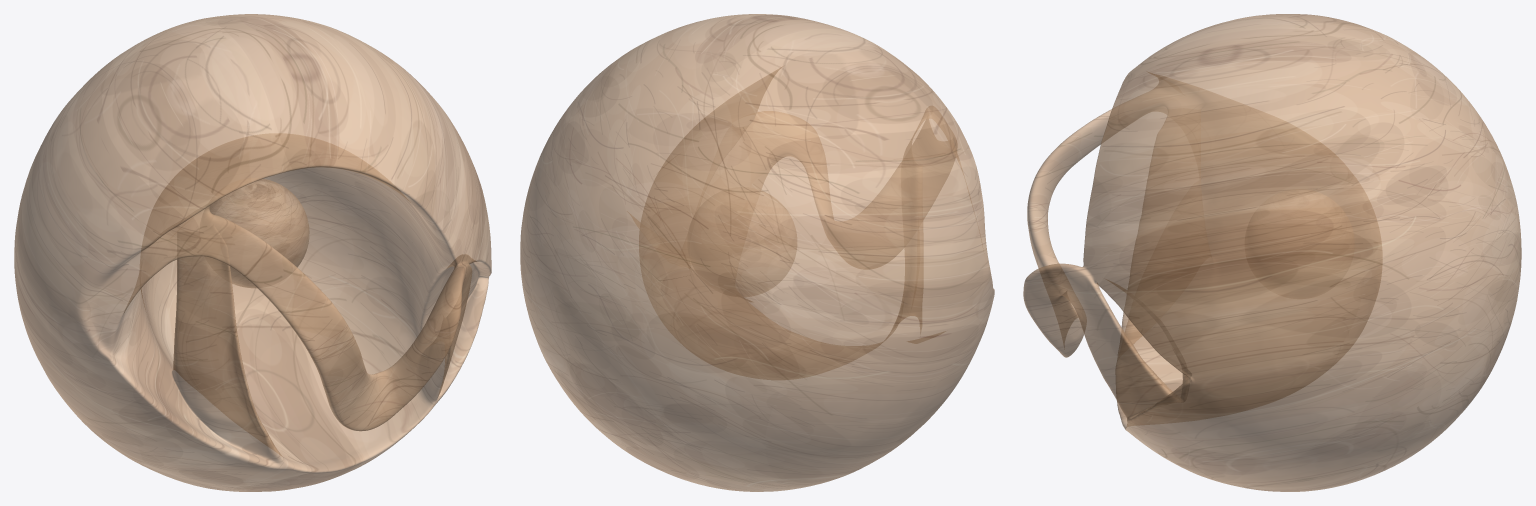
File: bronze-sphere-dust.glb
The picture shows the model from 3 angles, left to right: view 1: azimuth 30°, elevation 25°; view 2: azimuth 150°, elevation 25°; view 3: azimuth 270°, elevation 25°; orthographic projection.
Parts seen in each view (by area): view 1: Sentient Eye Shell, Floating Inner Sphere; view 2: Sentient Eye Shell, Floating Inner Sphere; view 3: Sentient Eye Shell, Floating Inner Sphere.
Part boxes in pixels (x1,y1,x2,y2): Sentient Eye Shell: [14, 14, 491, 491]; Floating Inner Sphere: [200, 178, 309, 288]; Sentient Eye Shell: [520, 14, 994, 491]; Floating Inner Sphere: [688, 187, 796, 296]; Sentient Eye Shell: [1023, 14, 1521, 491]; Floating Inner Sphere: [1245, 189, 1354, 298].
Bounding box in the file's own units: 5 × 5 × 5.2.
Materials: 2 (2 with a texture image).
